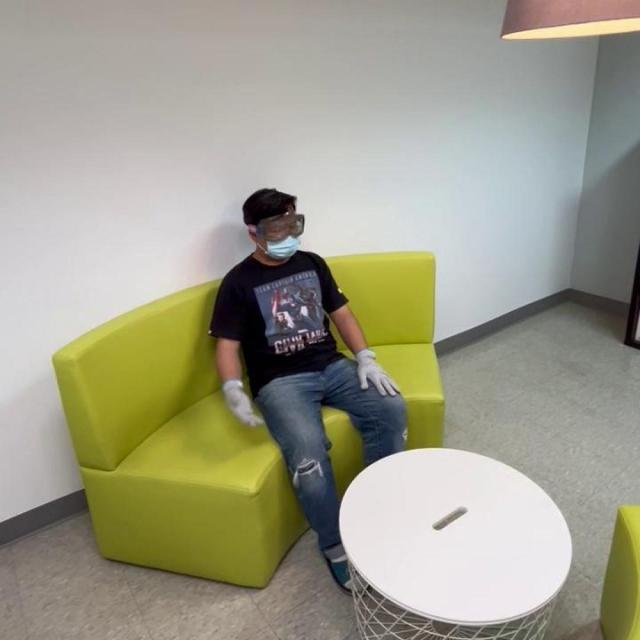gloved_hand: (356, 348, 399, 402), (220, 380, 263, 426)
